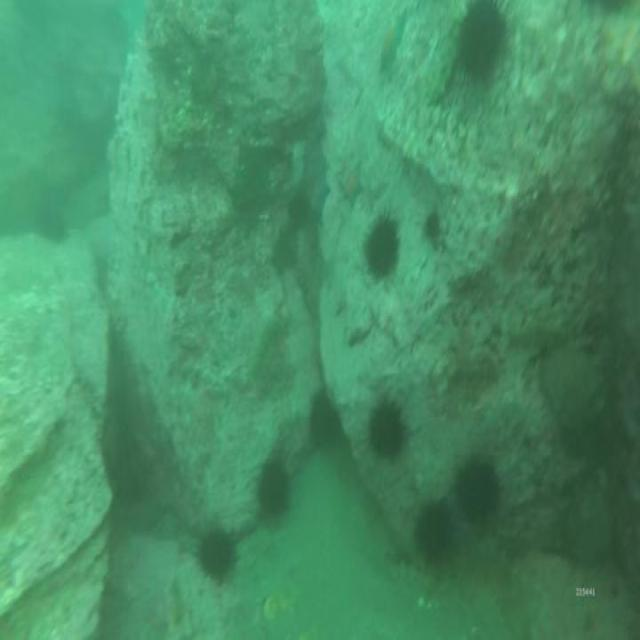echinus: (460, 0, 504, 77), (414, 506, 455, 567), (456, 464, 500, 520), (256, 457, 292, 515), (371, 401, 405, 460), (364, 223, 399, 273), (197, 531, 235, 577), (311, 393, 341, 449), (37, 208, 63, 244)
starfish: (380, 22, 402, 71), (338, 170, 364, 206)
